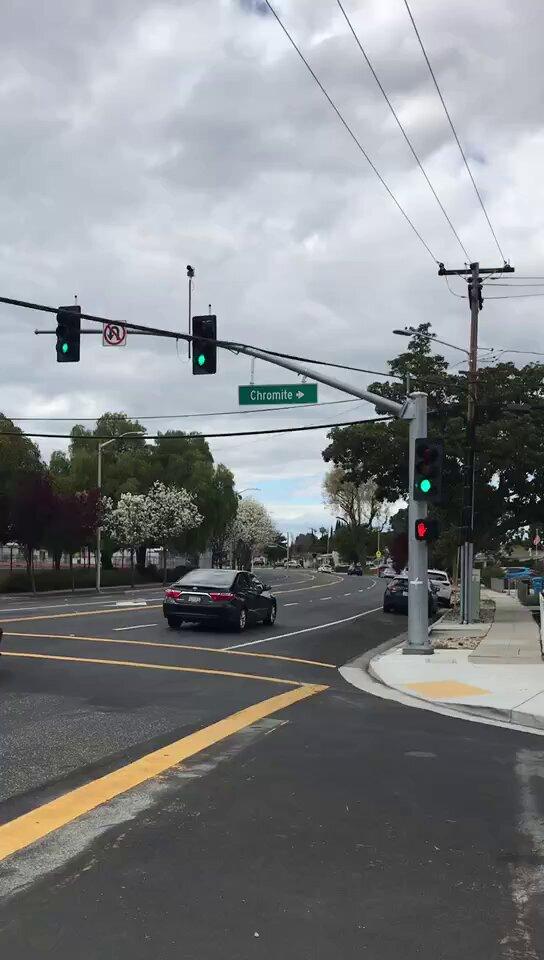green_light: (192, 317, 216, 373), (416, 439, 438, 500), (57, 309, 80, 363)
